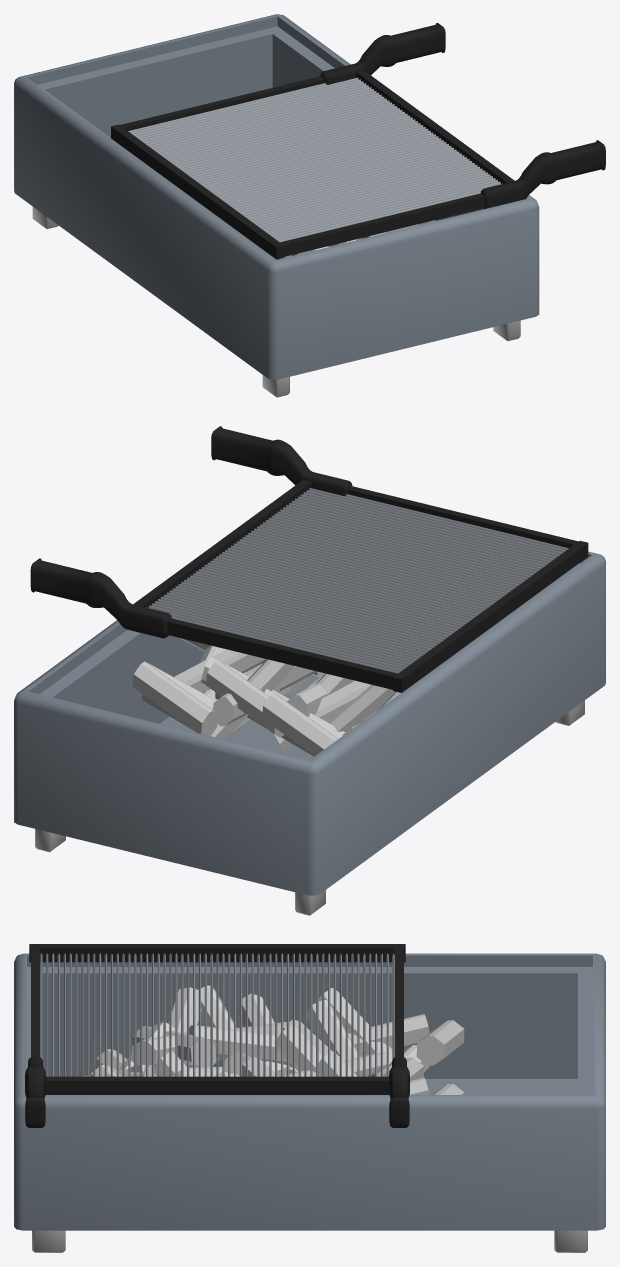
The picture shows the model from 3 angles, top to bottom: view 1: azimuth 30°, elevation 25°; view 2: azimuth 150°, elevation 25°; view 3: azimuth 270°, elevation 25°; orthographic projection. The views are drawn at different scales.
Parts seen in each view (by area): view 1: Grid, Gridx; view 2: Grid, Gridx; view 3: Grid, Gridx.
Boxes of the visible parts, <box> form: Grid: <box>14,14,539,397</box>; Gridx: <box>111,23,605,259</box>; Grid: <box>14,551,605,915</box>; Gridx: <box>30,426,588,692</box>; Grid: <box>14,953,605,1252</box>; Gridx: <box>25,944,409,1127</box>.
Bounding box in the file's own units: 0.7541 × 0.3746 × 1.
